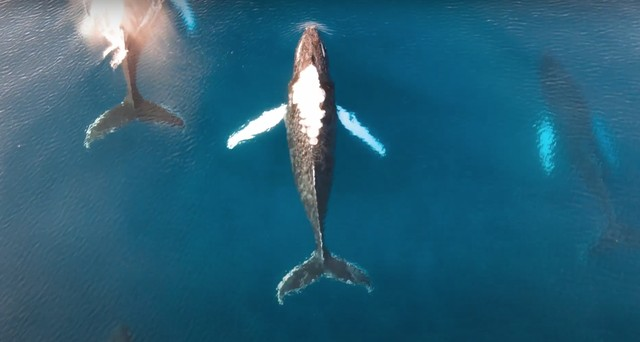whale: (222, 16, 398, 314), (518, 44, 639, 268)
